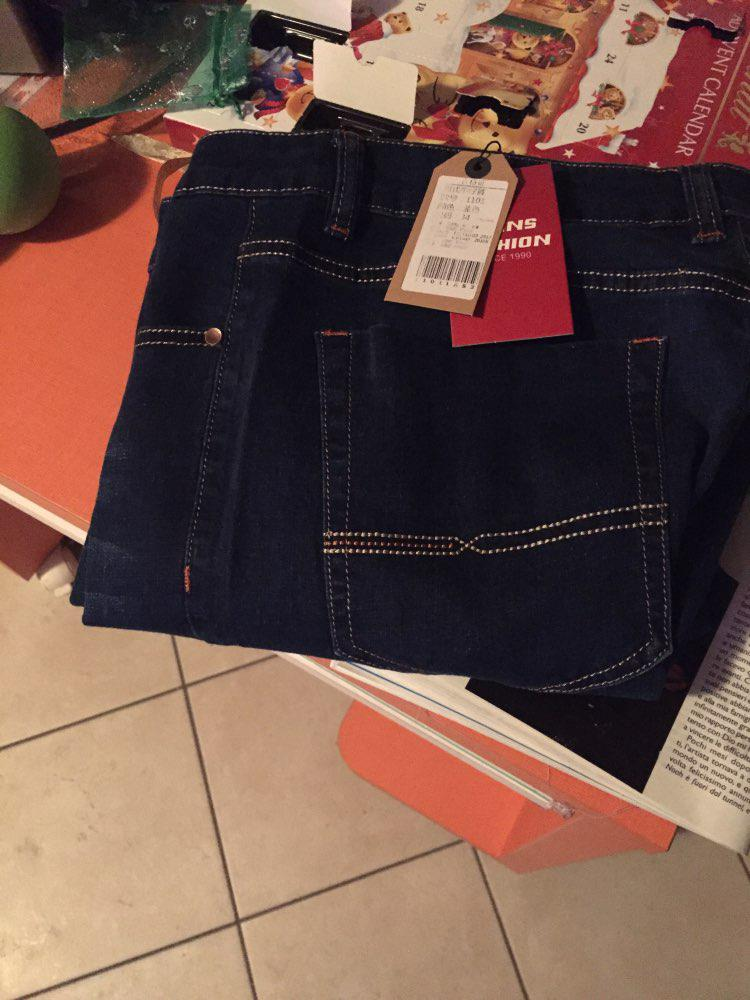jeans: (90, 130, 750, 681)
